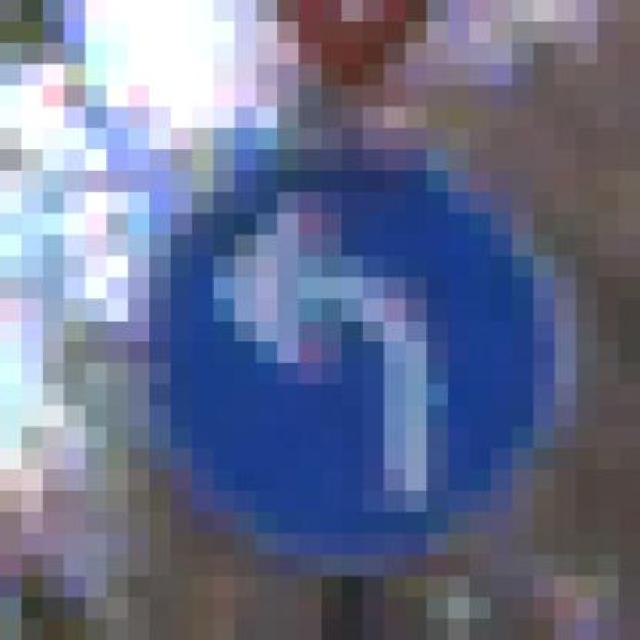Turn left ahead: (129, 107, 576, 555)
